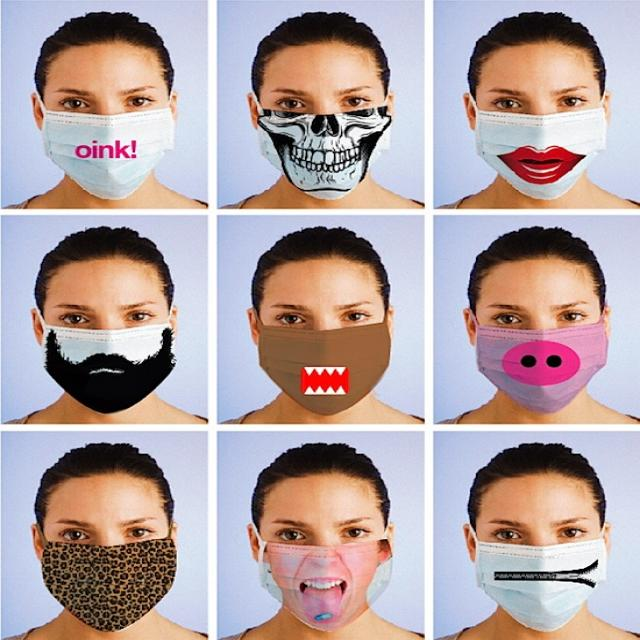mask: (42, 472, 170, 625), (474, 38, 601, 192), (474, 472, 601, 625), (42, 36, 167, 190), (257, 256, 385, 404), (258, 40, 382, 188), (476, 256, 602, 401), (263, 474, 379, 628), (45, 256, 167, 401)
